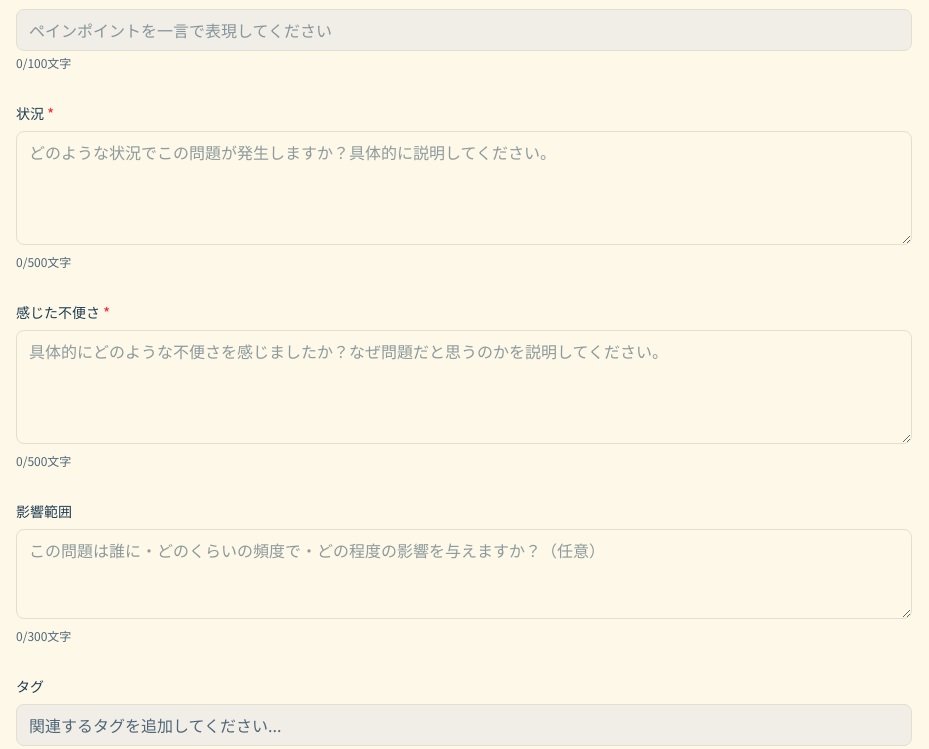
Test: DetailedPainPointForm › 下書きクリア機能が動作する
フォームに入力して下書き状態にする
Type "テスト" into the field labelled "タイトル *" at (464, 30), box x1=16 y1=9 x2=912 y2=51
(page scrolled)
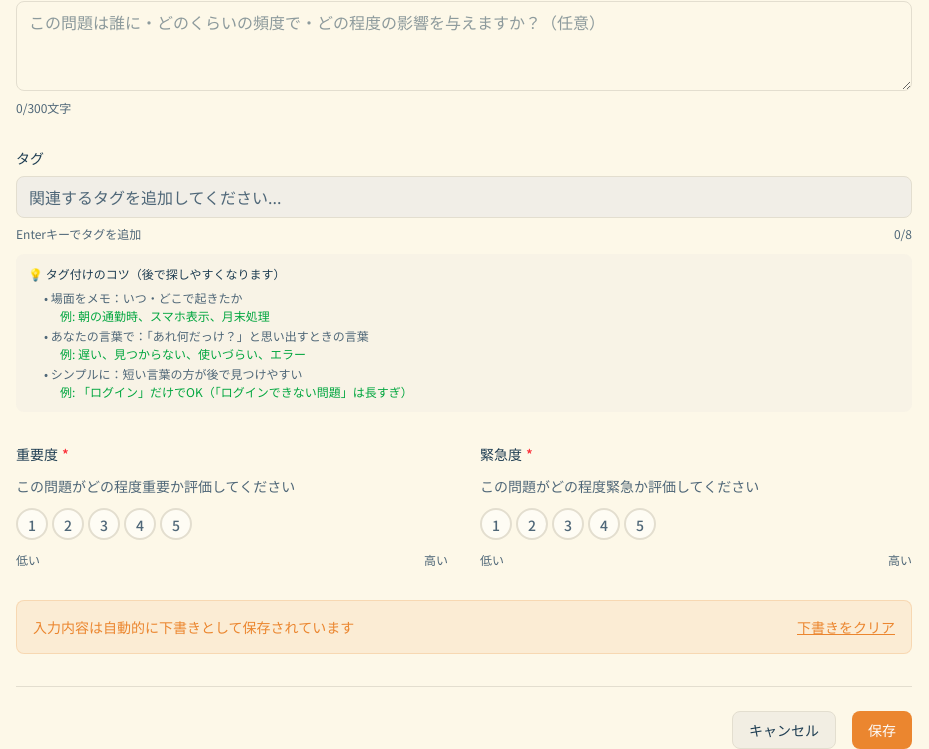
下書きクリアボタンをクリック
Click the button "下書きをクリア" at (846, 627), box x1=797 y1=617 x2=895 y2=637
(page scrolled)
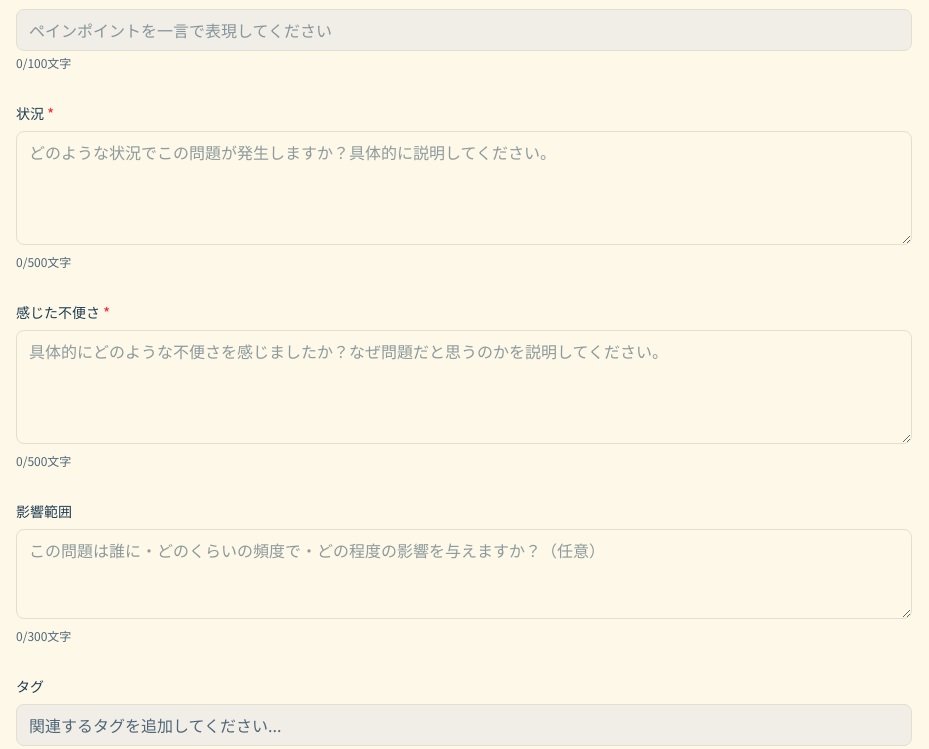
Expected: the field labelled "タイトル *" is empty, x1=16 y1=9 x2=912 y2=51
